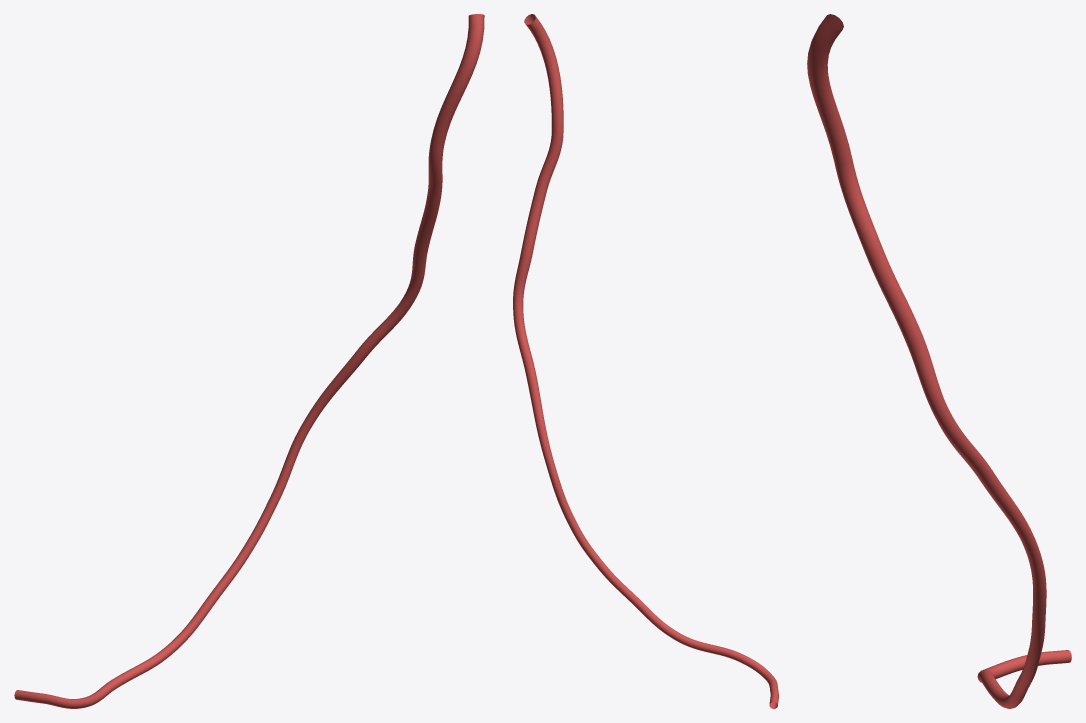
The picture shows the model from 3 angles, left to right: view 1: azimuth 30°, elevation 25°; view 2: azimuth 150°, elevation 25°; view 3: azimuth 270°, elevation 25°; orthographic projection. The views are drawn at different scales.
Parts seen in each view (by area): view 1: 左侧面横动脉; view 2: 左侧面横动脉; view 3: 左侧面横动脉.
Boxes of the visible parts, <box> form: 左侧面横动脉: <box>14,14,484,708</box>; 左侧面横动脉: <box>513,14,778,708</box>; 左侧面横动脉: <box>807,14,1071,708</box>.
Bounding box in the file's own units: 0.0654 × 0.1077 × 0.029.
